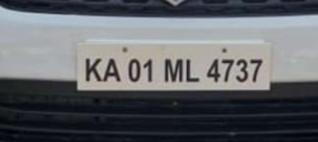0: (127, 56, 142, 84)
1: (142, 56, 156, 85)
3: (235, 57, 249, 84)
4: (205, 55, 221, 84)
7: (249, 54, 266, 83), (220, 55, 235, 85)
A: (103, 56, 122, 84)
K: (84, 57, 102, 85)
L: (183, 55, 201, 83)
M: (164, 56, 184, 84)
